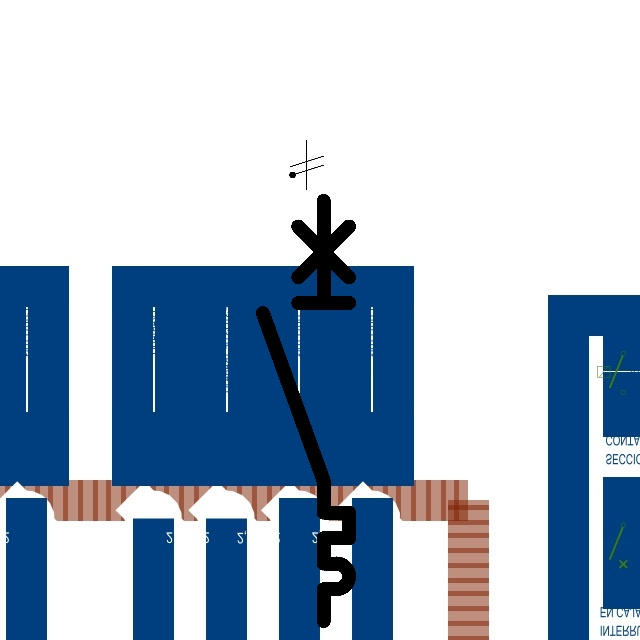interruptor_termomagnetico: (252, 190, 360, 632)
